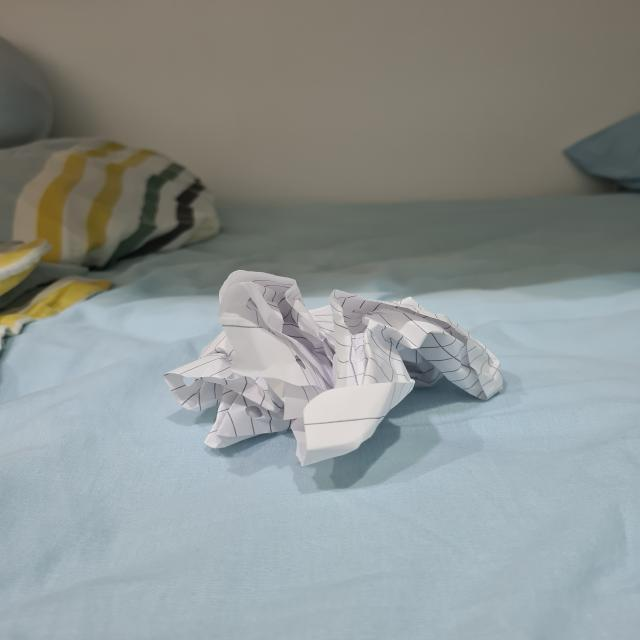Paper: (167, 270, 516, 464)
